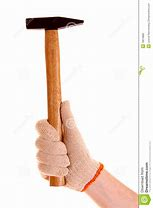hammer: (24, 15, 85, 189)
